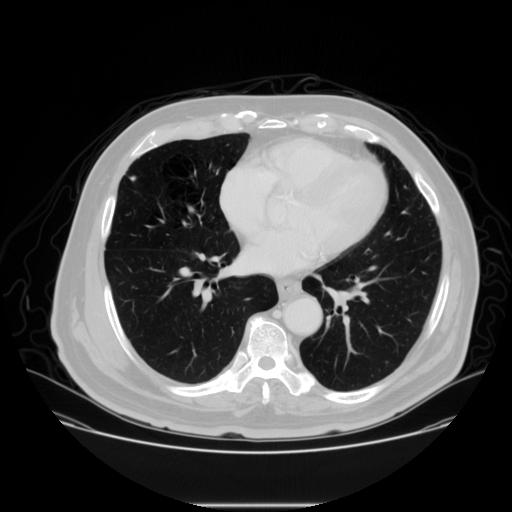nodule: (127, 173, 138, 184)
